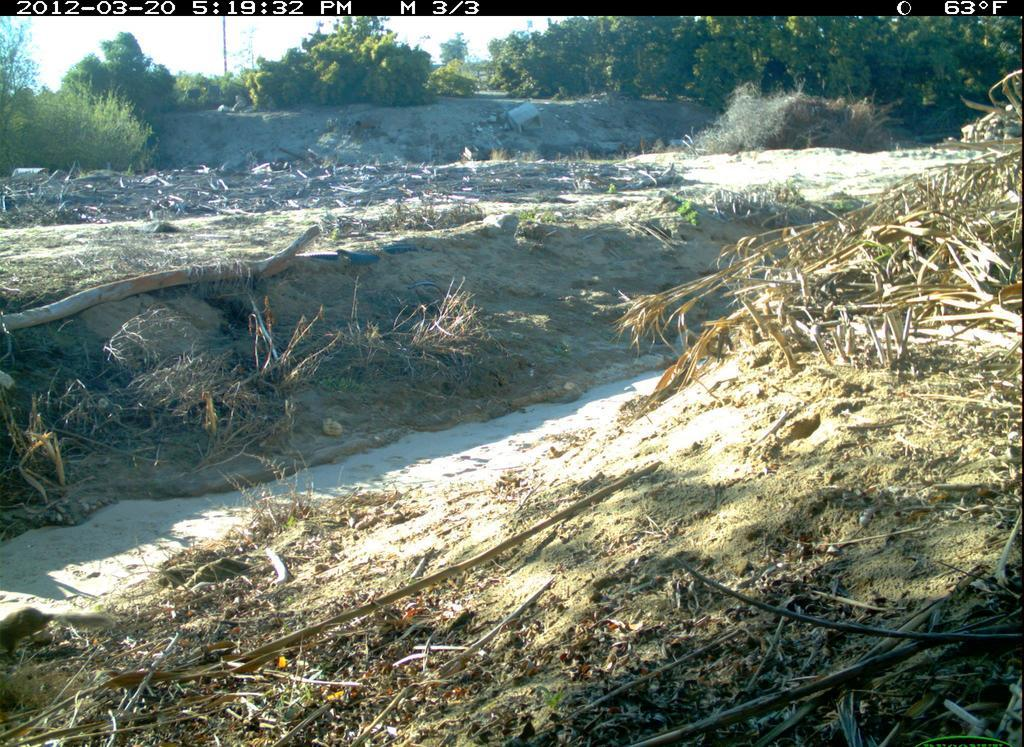squirrel: (1, 578, 120, 693)
